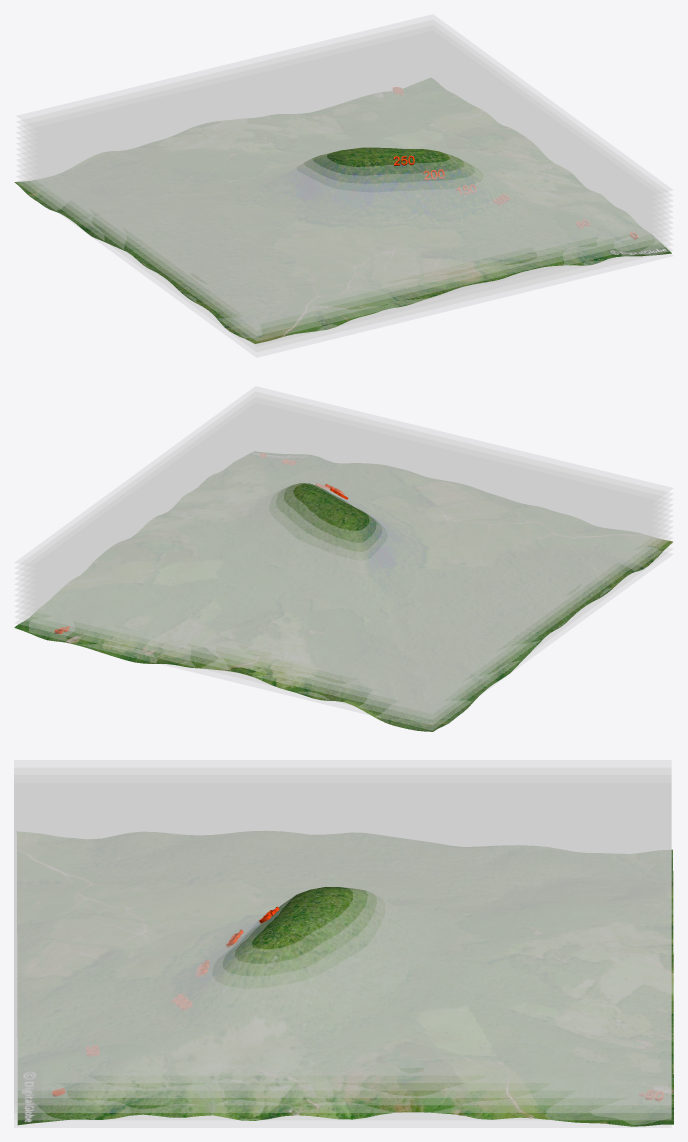
File: Prudentopolisb.gltf
3 renders of one model, top to bottom at view 1: azimuth 30°, elevation 25°; view 2: azimuth 150°, elevation 25°; view 3: azimuth 270°, elevation 25°, orthographic. The views are drawn at different scales.
Visible parts, largest first — view 1: object 2, root; view 2: object 2, root; view 3: object 2, root.
Part boxes in pixels (left/top/right/bottom): object 2: left=16, top=14, right=673, bottom=357; root: left=14, top=78, right=671, bottom=343; object 2: left=14, top=386, right=673, bottom=730; root: left=14, top=452, right=672, bottom=731; object 2: left=14, top=760, right=671, bottom=1127; root: left=17, top=831, right=673, bottom=1126.
Size of the model in its own units: 2000 by 354 by 2000.
3 materials, 1 textured.
